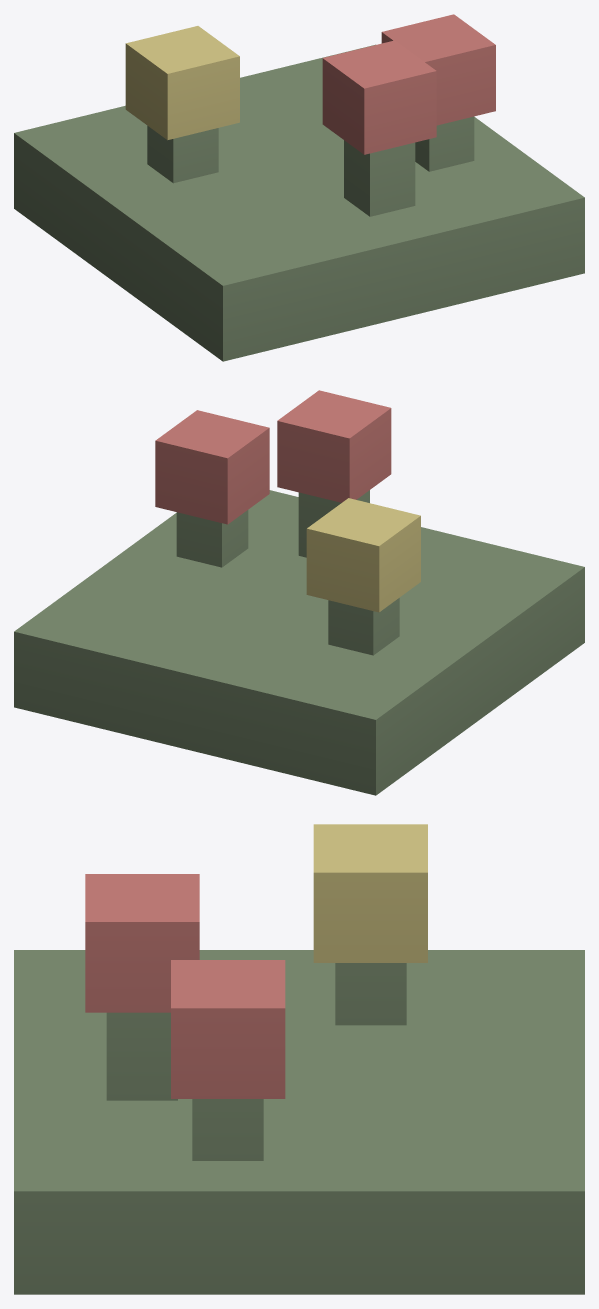
File: flower_patch.glb
3 renders of one model, top to bottom at view 1: azimuth 30°, elevation 25°; view 2: azimuth 150°, elevation 25°; view 3: azimuth 270°, elevation 25°, orthographic. The views are drawn at different scales.
Parts seen in each view (by area): view 1: root; view 2: root; view 3: root.
Boxes of the visible parts, x1=… form: root: x1=14, y1=14, x2=584, y2=361; root: x1=14, y1=390, x2=584, y2=795; root: x1=14, y1=824, x2=584, y2=1294.
Size of the model in its own units: 0.8 by 0.45 by 0.8.
